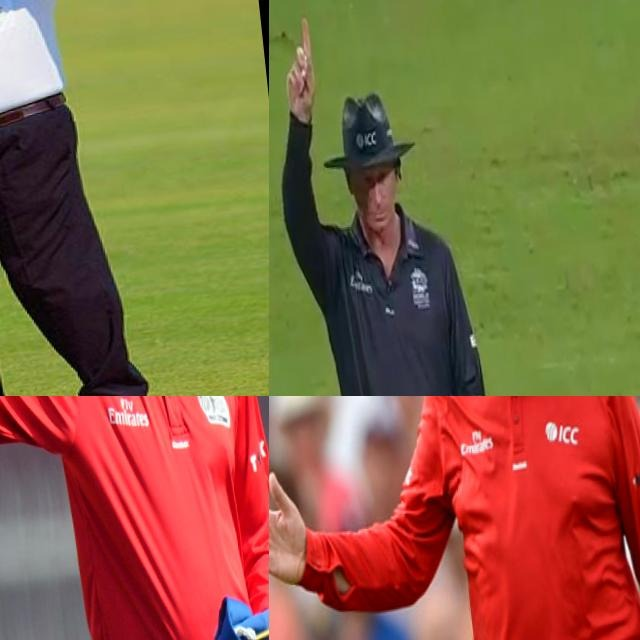No_Ball: (269, 396, 640, 640), (0, 396, 269, 640)
Out: (269, 0, 493, 396)
Six: (0, 0, 227, 396)
